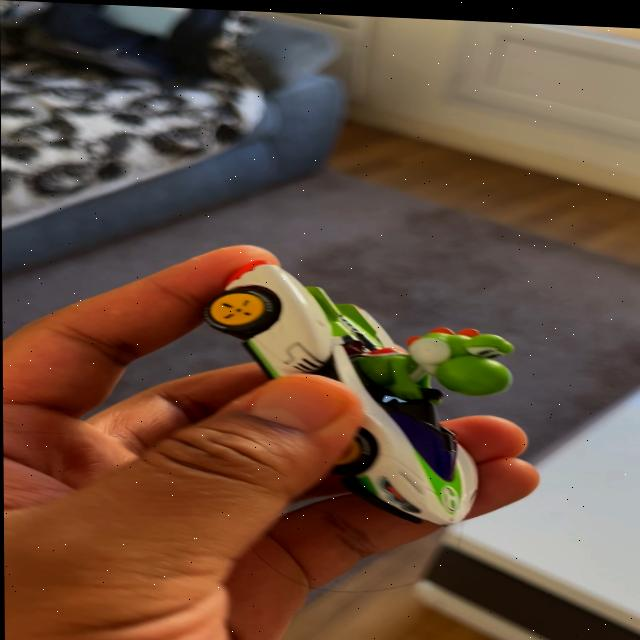yoshi: (188, 249, 537, 535)
